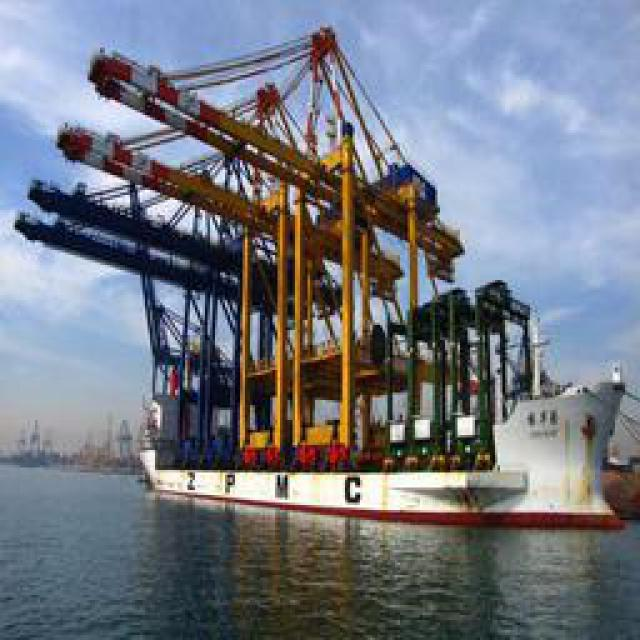Ship: (69, 20, 614, 535)
